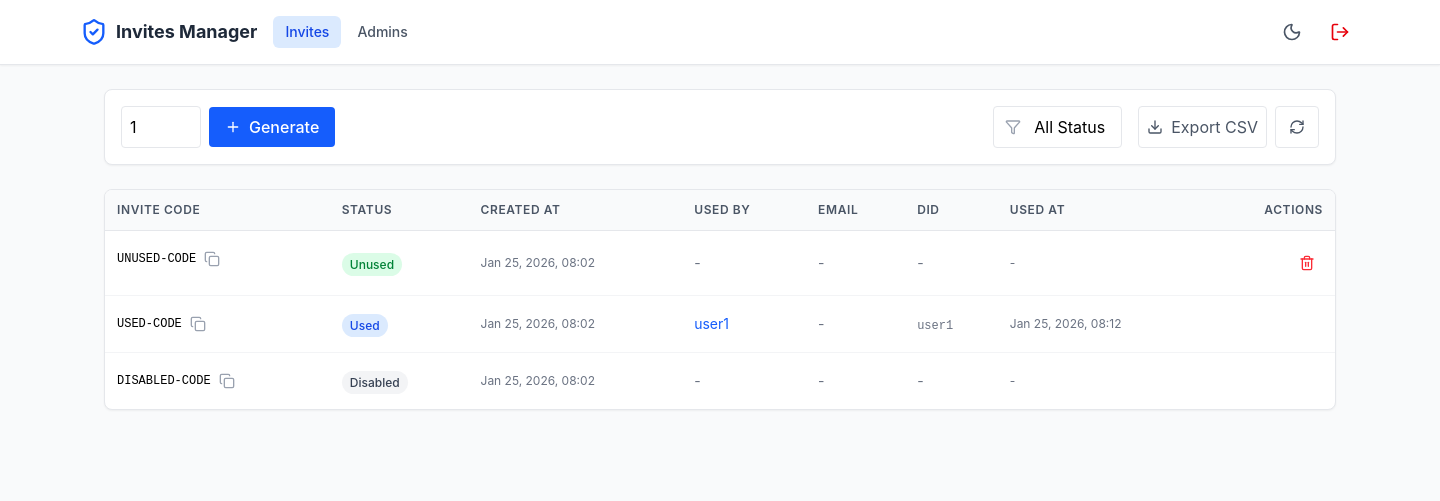
Test: invite actions › shows an error when creating invites fails
Expected: the text "UNUSED-CODE" is shown, [105,231,330,287]
Step 1. Click the button "Generate" → click(272, 127), box [209,107,335,147]
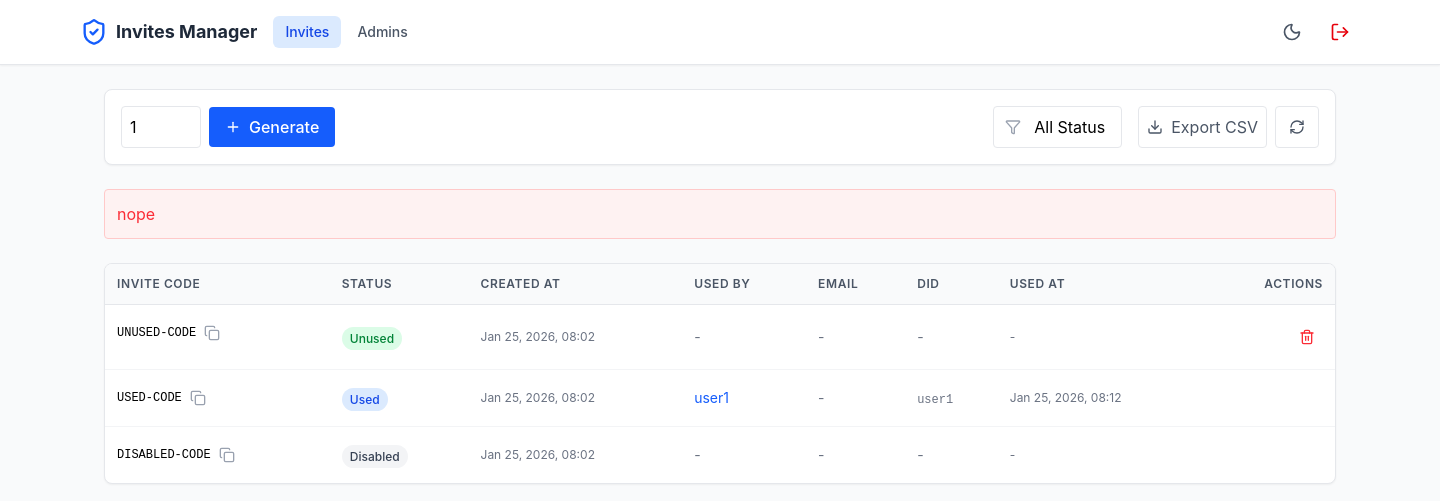
Expected: the text "nope" is shown, [104,189,1336,239]
